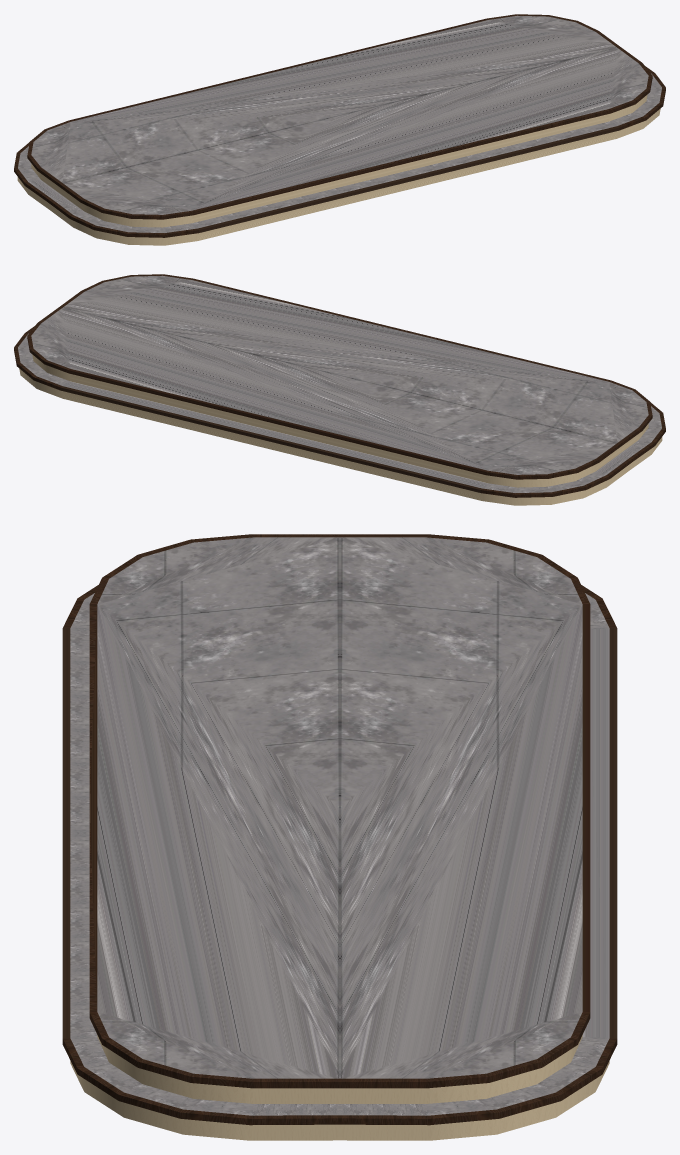
Rendered from pm-stage-platform.glb.
3 views of the same model, one above another, from view 1: azimuth 30°, elevation 25°; view 2: azimuth 150°, elevation 25°; view 3: azimuth 270°, elevation 25° (orthographic). The views are drawn at different scales.
Parts seen in each view (by area): view 1: Stage_Platform; view 2: Stage_Platform; view 3: Stage_Platform.
Part boxes in pixels (x1,y1,x2,y2): Stage_Platform: (14,14,665,245); Stage_Platform: (14,274,665,505); Stage_Platform: (62,534,617,1140).
Size of the model in its own units: 12.21 by 0.5021 by 5.01.
3 materials, 3 textured.
